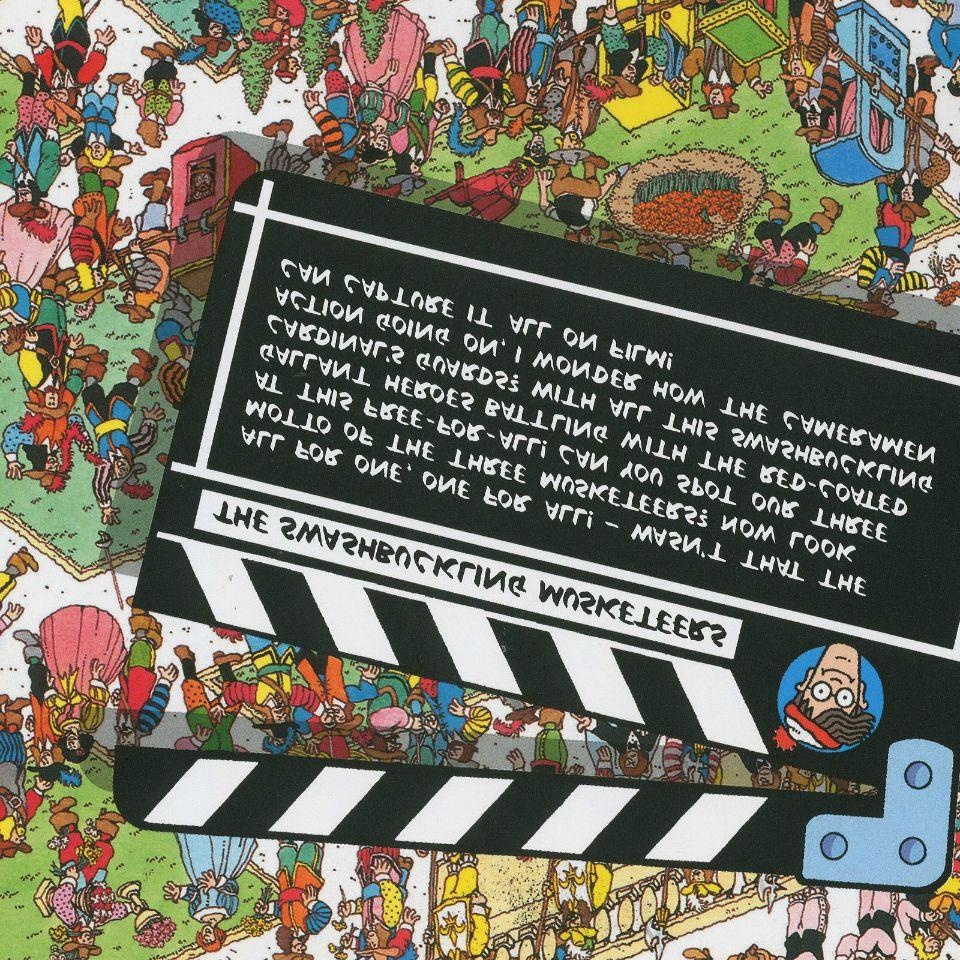waldo: (774, 639, 884, 752)
